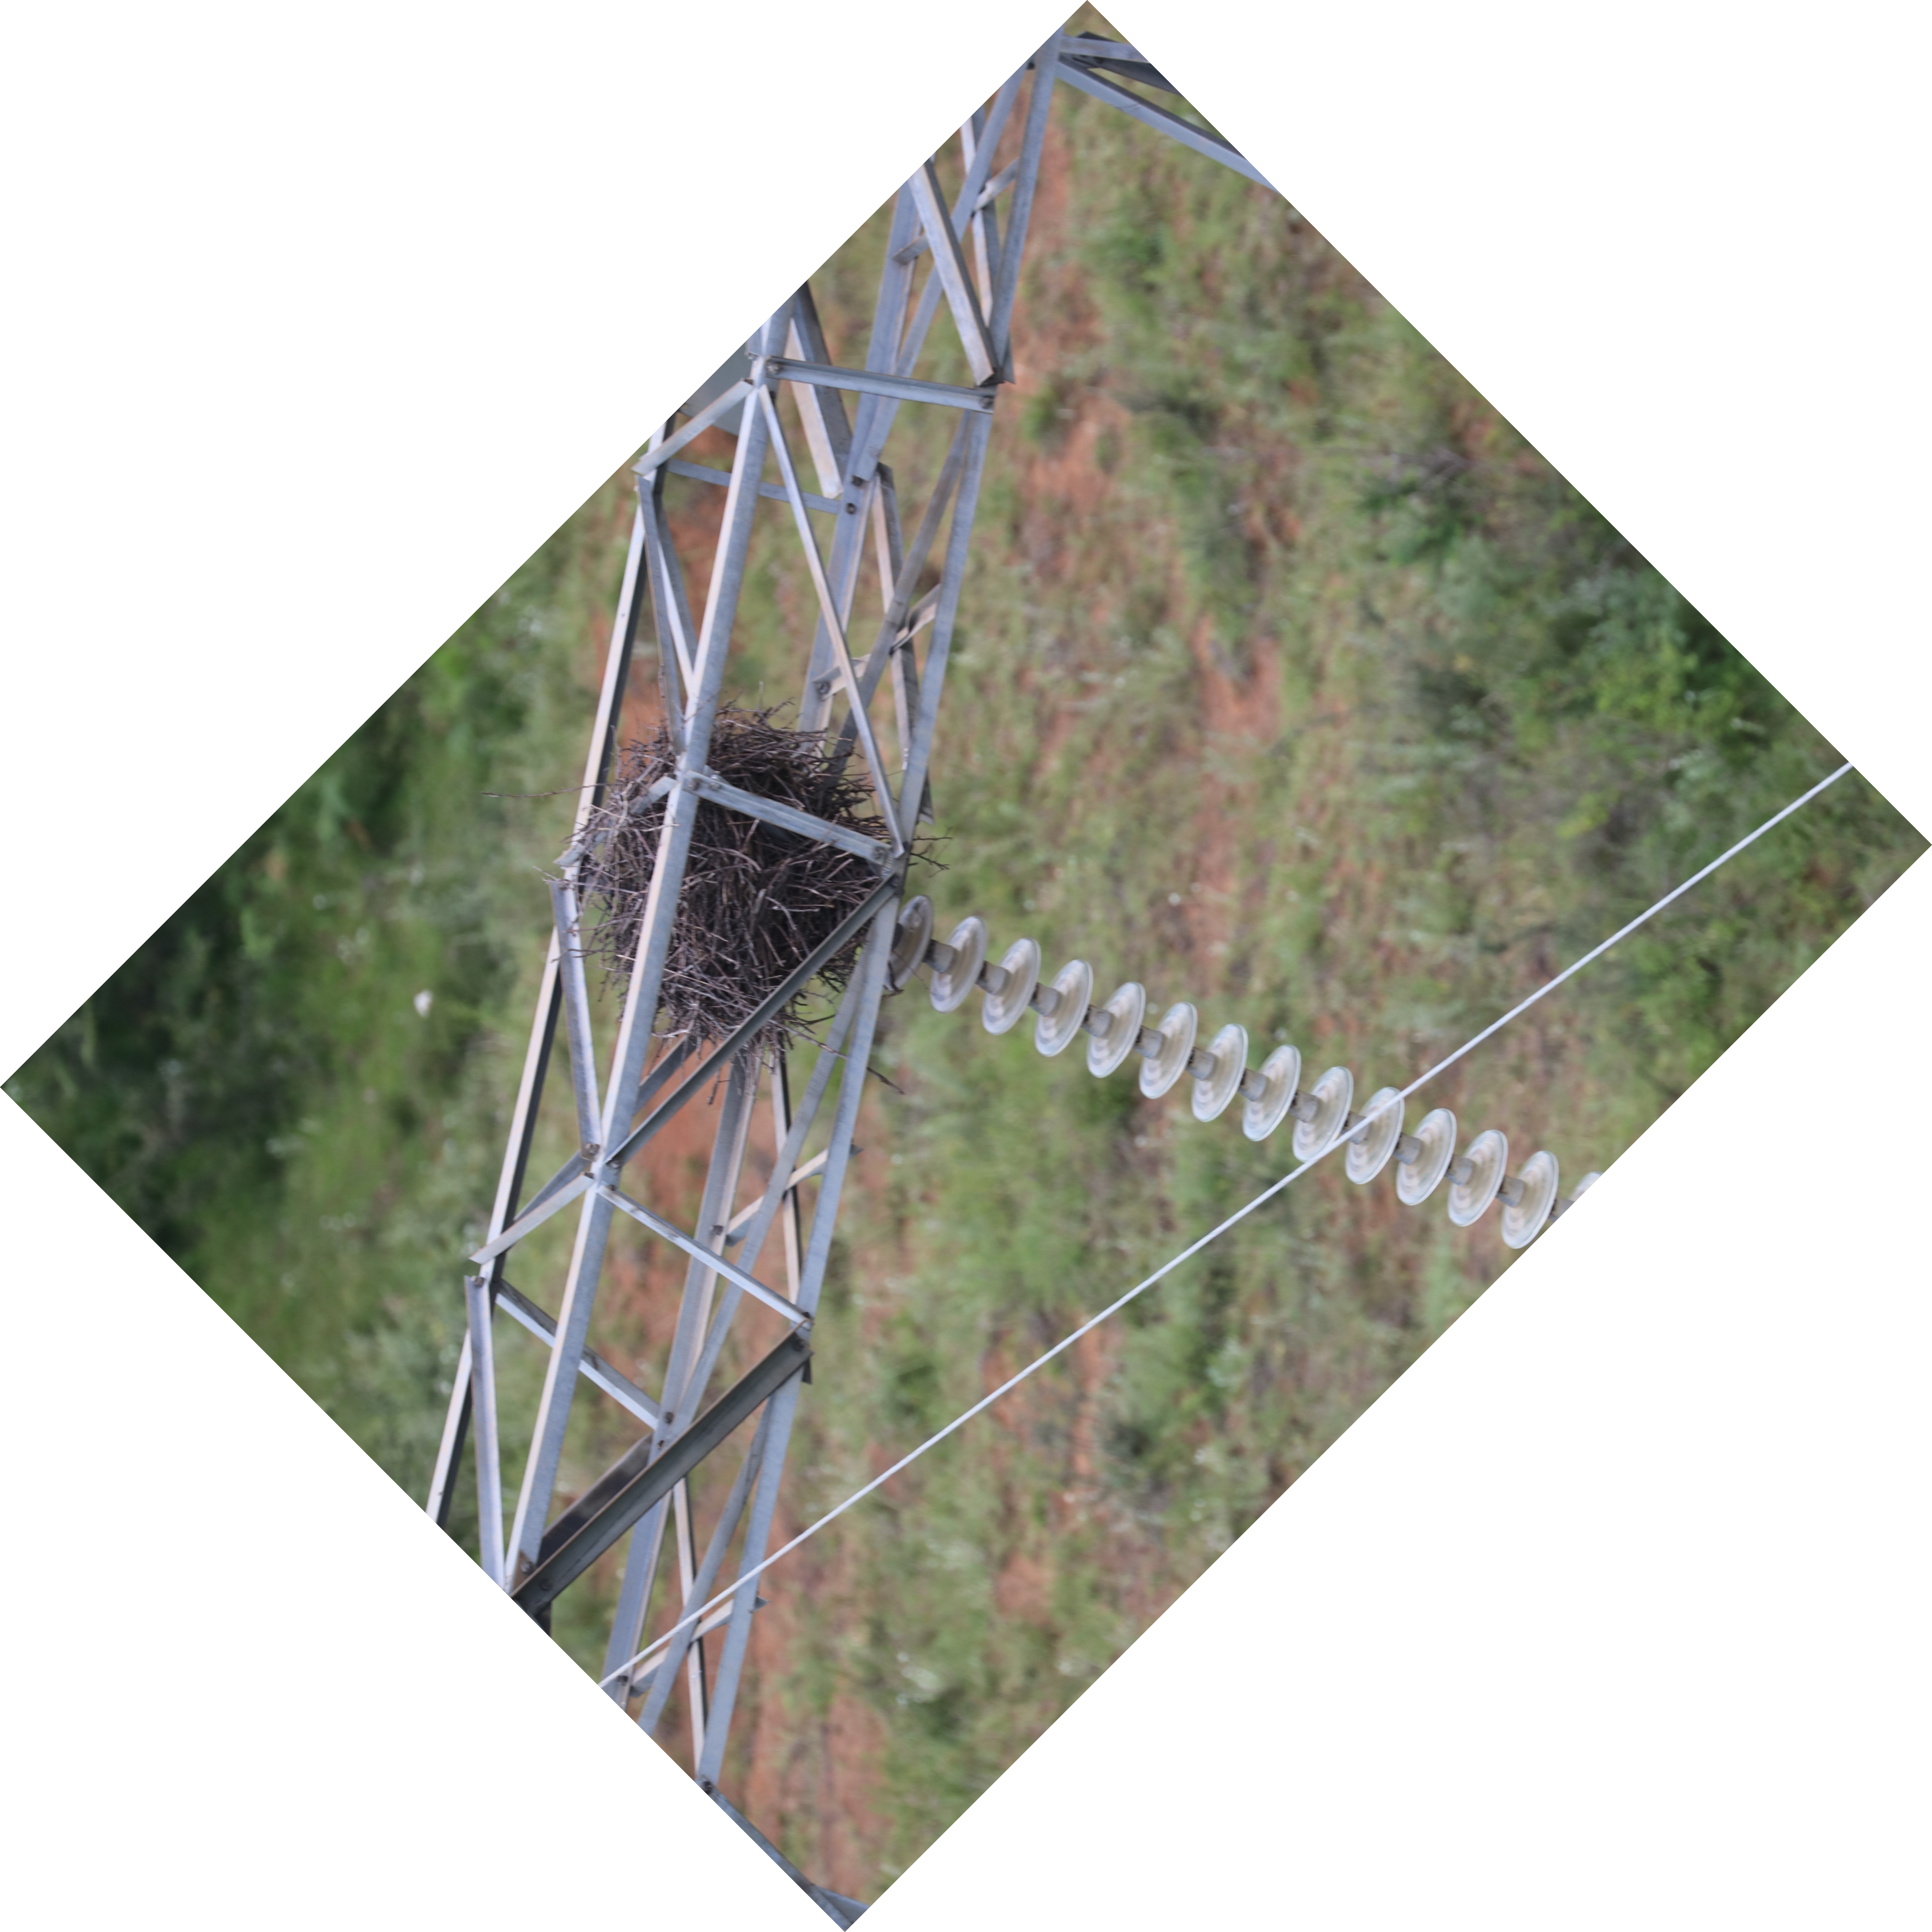niaowo: (557, 706, 934, 1065)
